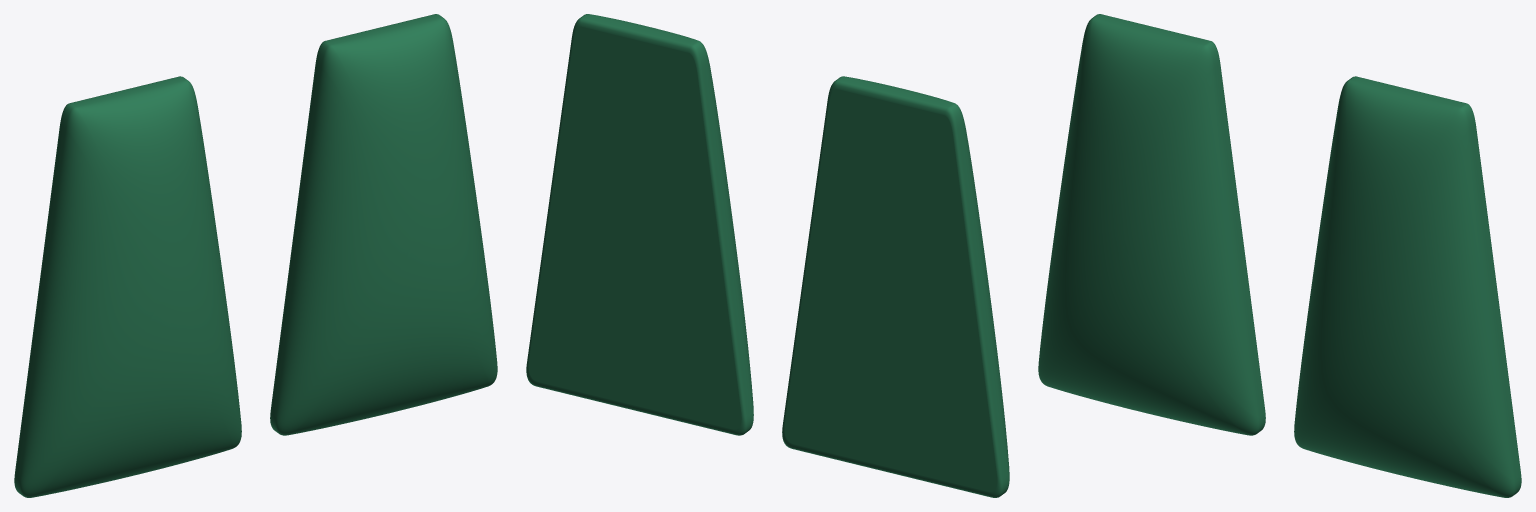
The model's file is matched-pair-v1.glb.
3 views of the same model, side by side, from view 1: azimuth 30°, elevation 25°; view 2: azimuth 150°, elevation 25°; view 3: azimuth 330°, elevation 25° (orthographic).
Visible parts, largest first — view 1: Ladder-Trapezoid Cabochon 23x14x4mm, Ladder-Trapezoid Cabochon 23x14x4mm.001; view 2: Ladder-Trapezoid Cabochon 23x14x4mm, Ladder-Trapezoid Cabochon 23x14x4mm.001; view 3: Ladder-Trapezoid Cabochon 23x14x4mm.001, Ladder-Trapezoid Cabochon 23x14x4mm.
Part boxes in pixels (x1=…): Ladder-Trapezoid Cabochon 23x14x4mm: x1=14, y1=76, x2=241, y2=497; Ladder-Trapezoid Cabochon 23x14x4mm.001: x1=270, y1=14, x2=497, y2=435; Ladder-Trapezoid Cabochon 23x14x4mm: x1=782, y1=76, x2=1009, y2=497; Ladder-Trapezoid Cabochon 23x14x4mm.001: x1=526, y1=14, x2=753, y2=435; Ladder-Trapezoid Cabochon 23x14x4mm.001: x1=1294, y1=76, x2=1521, y2=497; Ladder-Trapezoid Cabochon 23x14x4mm: x1=1038, y1=14, x2=1265, y2=435.
Size of the model in its own units: 0.0302 by 0.023 by 0.00398.
